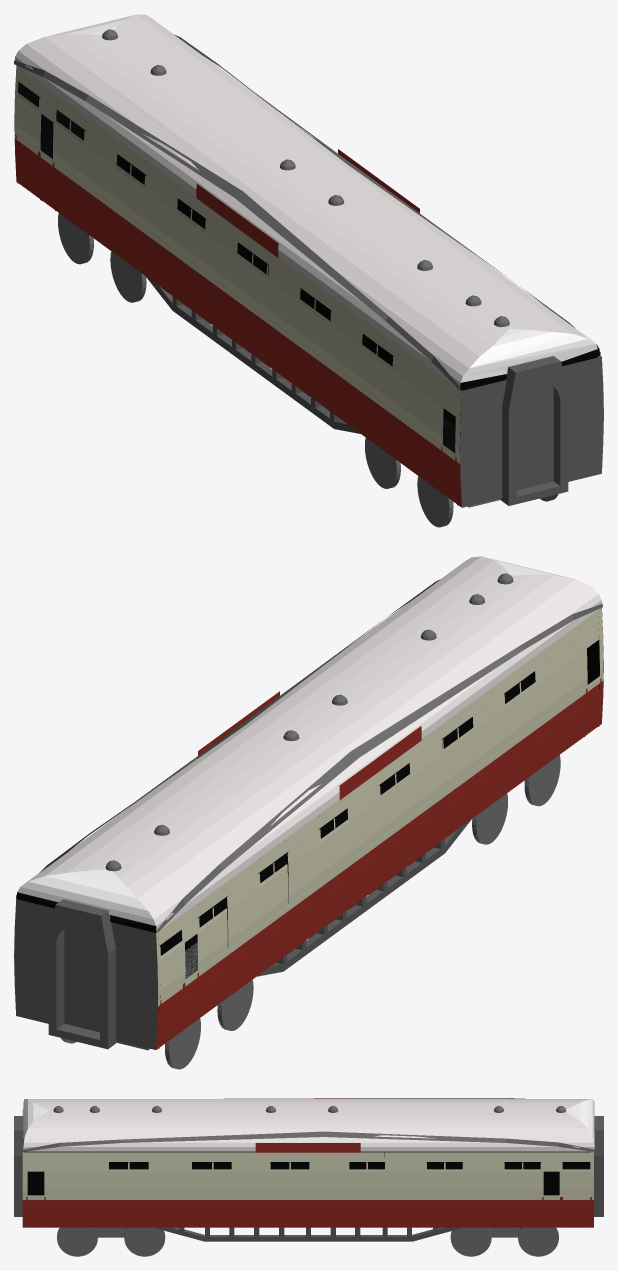
Rendered from lner-gresley-express-parcel-brake-cc.dae.
3 renders of one model, top to bottom at view 1: azimuth 30°, elevation 25°; view 2: azimuth 150°, elevation 25°; view 3: azimuth 270°, elevation 25°, orthographic. The views are drawn at different scales.
Visible parts, largest first — view 1: Suzanne_001, Plane_358, Plane_070, Tube_002, Plane_326, Suzanne_004, Plane_359, Plane_357, Plane_019, Plane_332, Plane_281, Plane_276 (+20 smaller); view 2: Suzanne_001, Plane_358, Plane_001, Tube_004, Plane_326, Suzanne_004, Plane_359, Plane_357, Plane_019, Plane_332, Plane_281, Plane_276 (+19 smaller); view 3: Suzanne_001, Plane_007, Plane_019, Plane_361, Plane_006, Suzanne_003, Plane_005, Plane_158, Plane_079, Plane_239, Plane_242, Plane_077 (+32 smaller).
Part boxes in pixels (left/top/right/bottom): Suzanne_001: left=15, top=14, right=599, bottom=389; Plane_358: left=14, top=138, right=461, bottom=507; Plane_070: left=460, top=356, right=603, bottom=507; Tube_002: left=500, top=356, right=568, bottom=505; Plane_326: left=176, top=209, right=392, bottom=406; Suzanne_004: left=14, top=60, right=459, bottom=389; Plane_359: left=15, top=72, right=461, bottom=404; Plane_357: left=14, top=131, right=459, bottom=463; Plane_019: left=116, top=144, right=455, bottom=424; Plane_332: left=179, top=185, right=440, bottom=381; Plane_281: left=146, top=176, right=177, bottom=247; Plane_276: left=85, top=131, right=116, bottom=203; Suzanne_001: left=16, top=556, right=601, bottom=933; Plane_358: left=156, top=681, right=603, bottom=1049; Plane_001: left=14, top=899, right=158, bottom=1049; Tube_004: left=48, top=899, right=115, bottom=1049; Plane_326: left=321, top=682, right=536, bottom=879; Suzanne_004: left=157, top=603, right=602, bottom=932; Plane_359: left=156, top=614, right=602, bottom=947; Plane_357: left=157, top=673, right=603, bottom=1006; Plane_019: left=160, top=675, right=529, bottom=955; Plane_332: left=319, top=623, right=580, bottom=820; Plane_281: left=288, top=829, right=319, bottom=901; Plane_276: left=227, top=874, right=258, bottom=945; Suzanne_001: left=23, top=1099, right=594, bottom=1151; Plane_007: left=22, top=1200, right=593, bottom=1227; Plane_019: left=24, top=1151, right=590, bottom=1195; Plane_361: left=109, top=1171, right=309, bottom=1195; Plane_006: left=22, top=1157, right=593, bottom=1161; Suzanne_003: left=23, top=1131, right=594, bottom=1151; Plane_005: left=22, top=1195, right=593, bottom=1199; Plane_158: left=50, top=1152, right=383, bottom=1157; Plane_079: left=26, top=1195, right=591, bottom=1196; Plane_239: left=386, top=1162, right=425, bottom=1195; Plane_242: left=464, top=1162, right=502, bottom=1195; Plane_077: left=27, top=1209, right=590, bottom=1210.
Size of the model in its own units: 2.08 by 11.39 by 2.82.
